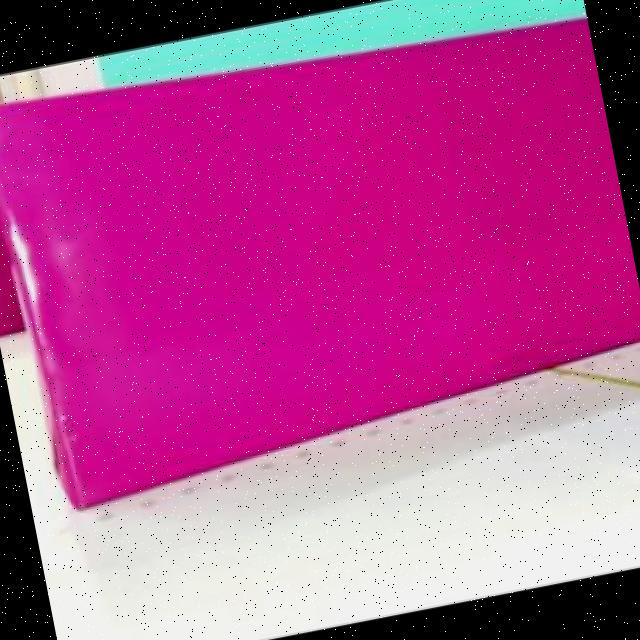xparking: (5, 21, 640, 521), (0, 195, 15, 335)
